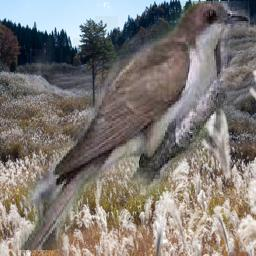Cuckoo: (20, 2, 251, 251)
